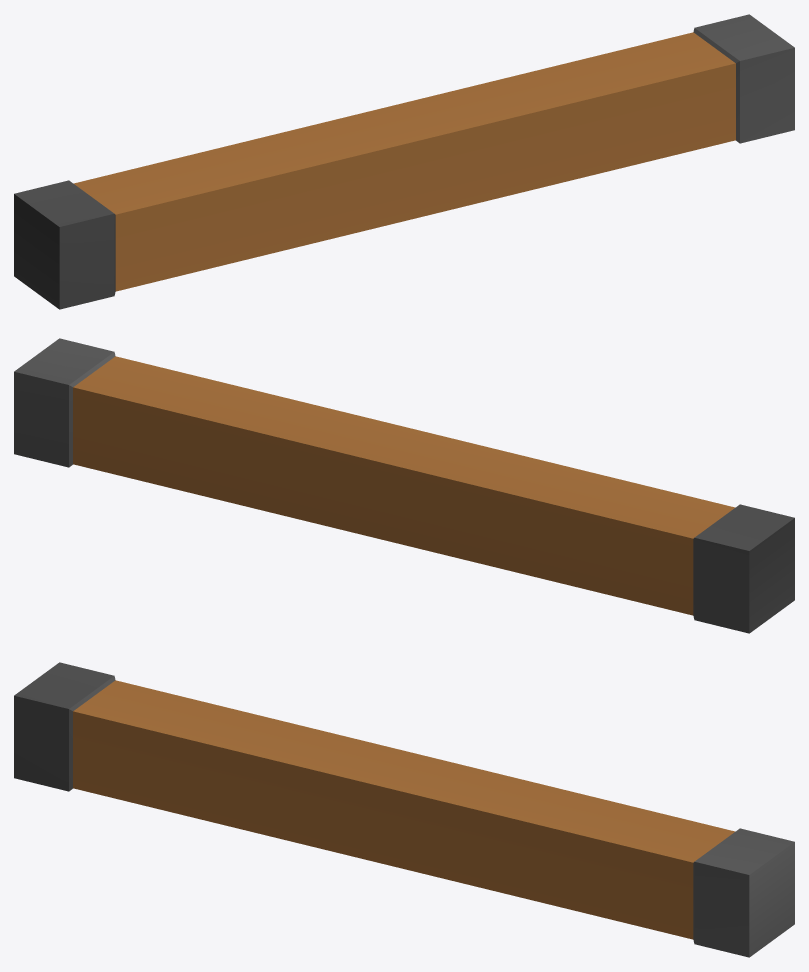
File: Beam_Horizontal_01.fbx
3 views of the same model, one above another, from view 1: azimuth 30°, elevation 25°; view 2: azimuth 150°, elevation 25°; view 3: azimuth 330°, elevation 25° (orthographic).
Parts seen in each view (by area): view 1: Beam_Horizontal_01; view 2: Beam_Horizontal_01; view 3: Beam_Horizontal_01.
Part boxes in pixels (<box>): Beam_Horizontal_01: <box>14,14,794,309</box>; Beam_Horizontal_01: <box>14,338,794,633</box>; Beam_Horizontal_01: <box>14,662,794,957</box>.
Bounding box in the file's own units: 4 × 0.4289 × 0.4289.
